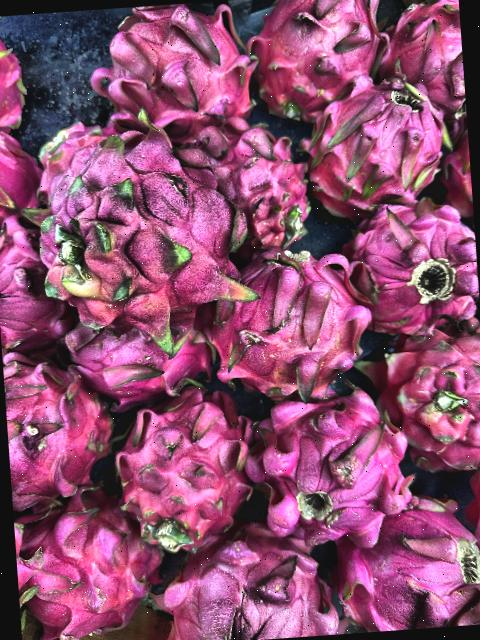buah-naga-matang: (23, 125, 252, 337), (244, 382, 422, 540), (82, 0, 268, 144), (106, 388, 257, 545), (209, 250, 372, 395), (332, 484, 480, 633), (12, 499, 166, 640), (310, 76, 455, 218), (2, 340, 118, 512), (169, 522, 338, 640), (340, 192, 480, 333), (364, 329, 480, 485), (204, 114, 324, 250), (253, 0, 395, 105), (56, 306, 210, 402), (377, 0, 466, 122), (0, 210, 79, 344), (0, 124, 51, 235), (0, 16, 30, 139)
